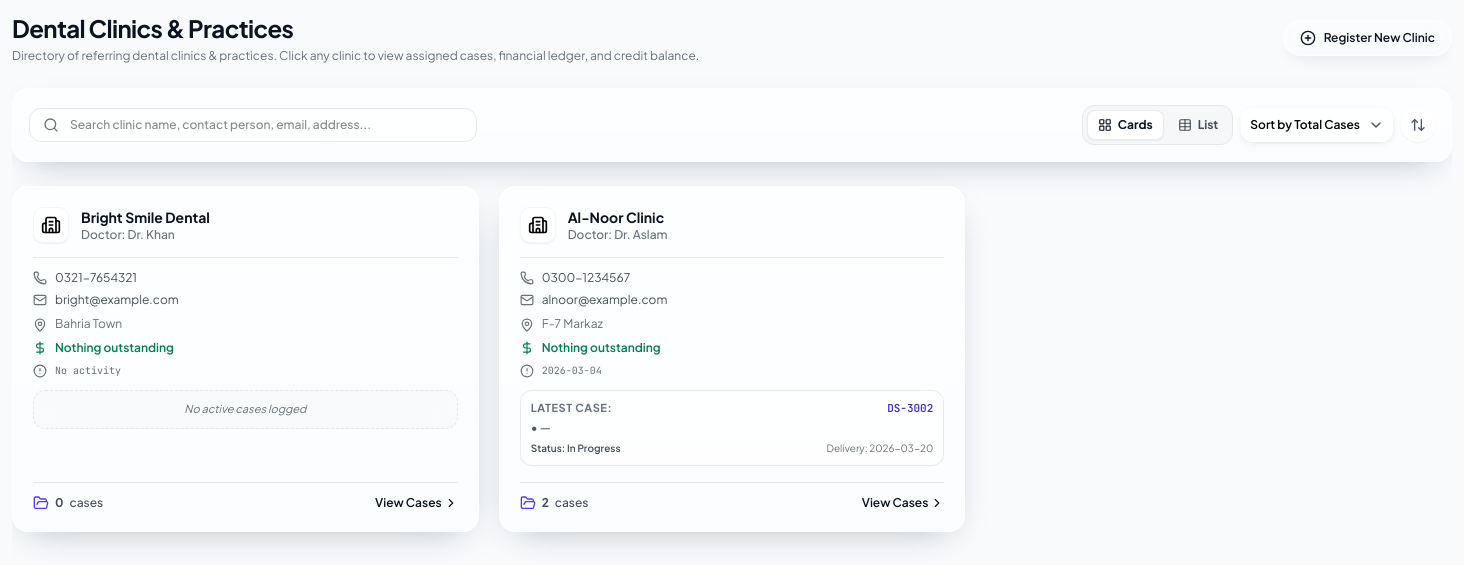
Scenario: Dental Clinics list view › filters the list by clinic name, doctor, email or address
This screenshot has width=1464, height=565.
Step 1. Click the button "List" → (1198, 125), box [1168,111,1228,139]
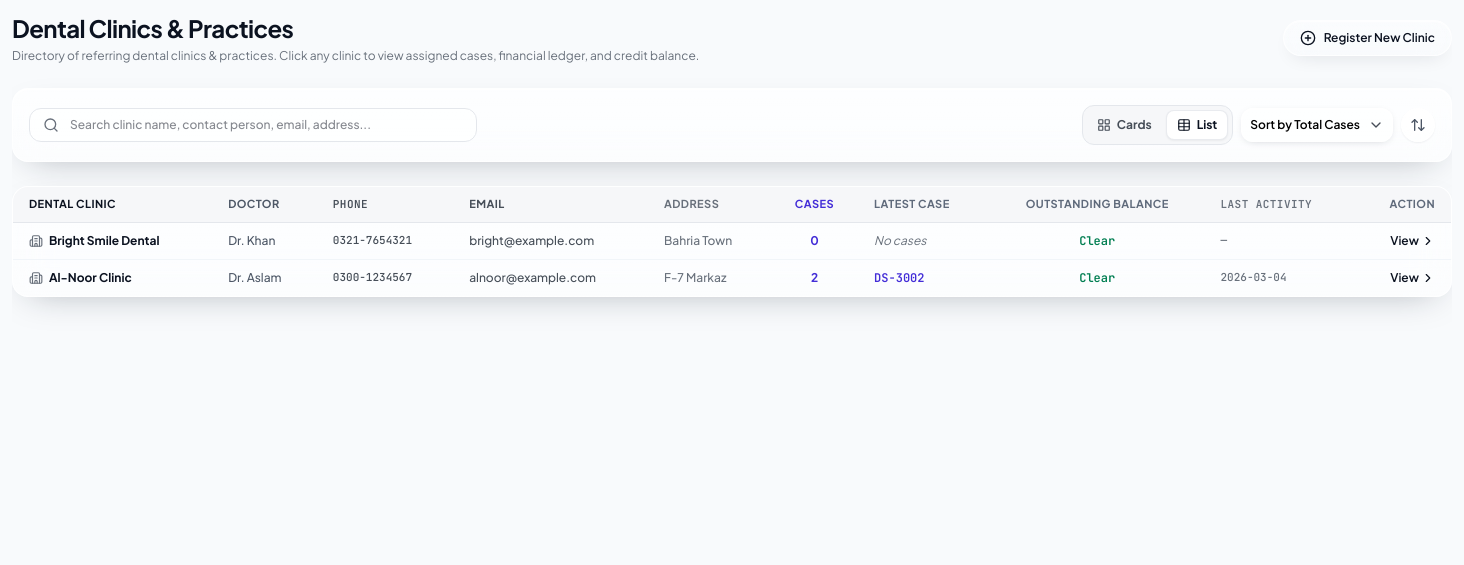
Step 2. Type "bahria" into the field with placeholder "Search clinic name, contact person, email, address..." → (253, 125), box [29,108,477,142]
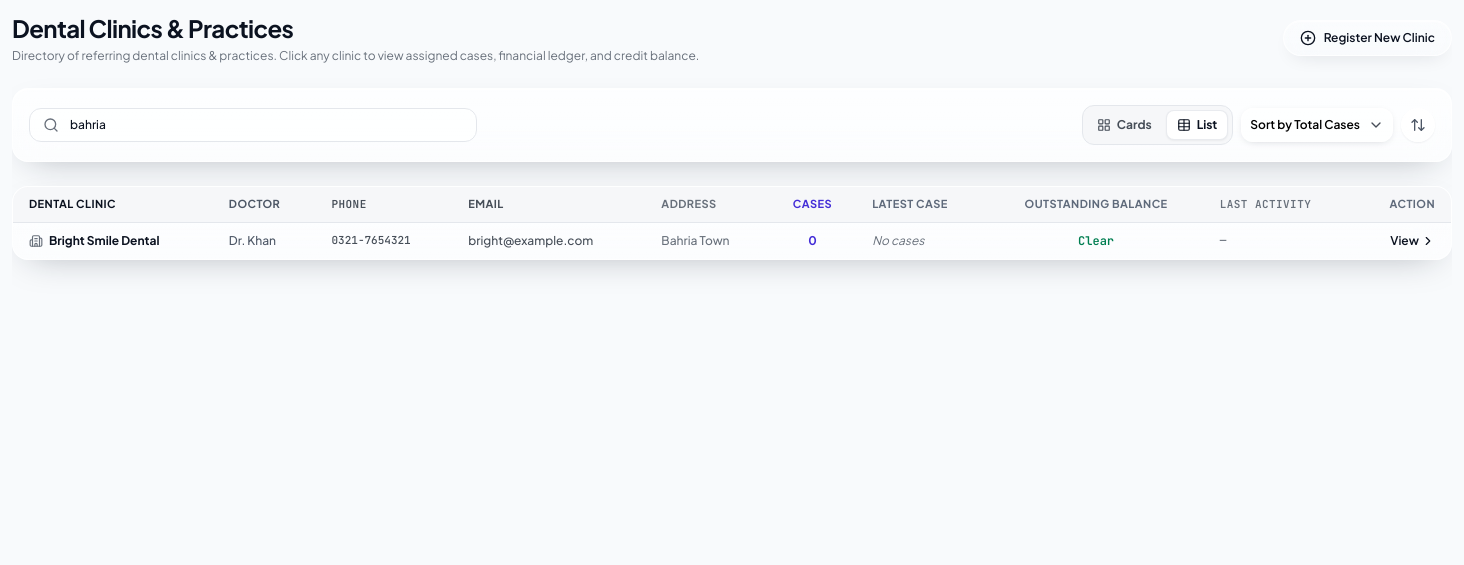
Now the text "Bright Smile Dental" is shown, box [49,233,160,249]
Now the text "Al-Noor Clinic" is gone
